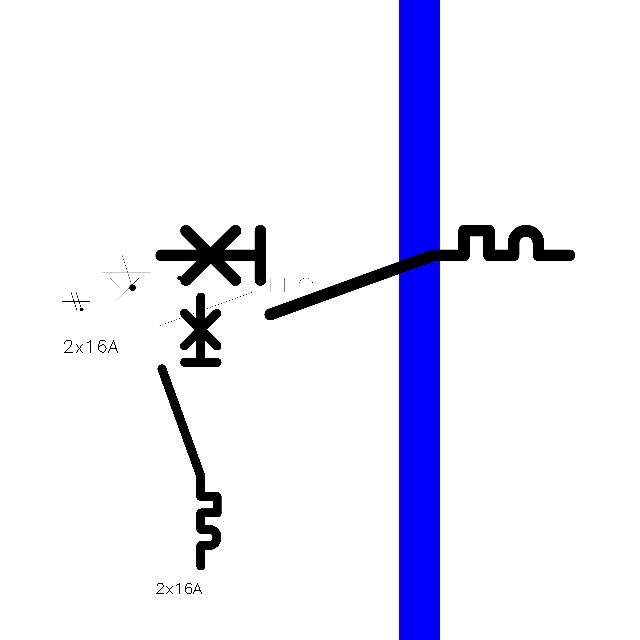interruptor_termomagnetico: (150, 220, 580, 325), (155, 290, 224, 573), (89, 272, 336, 332)
